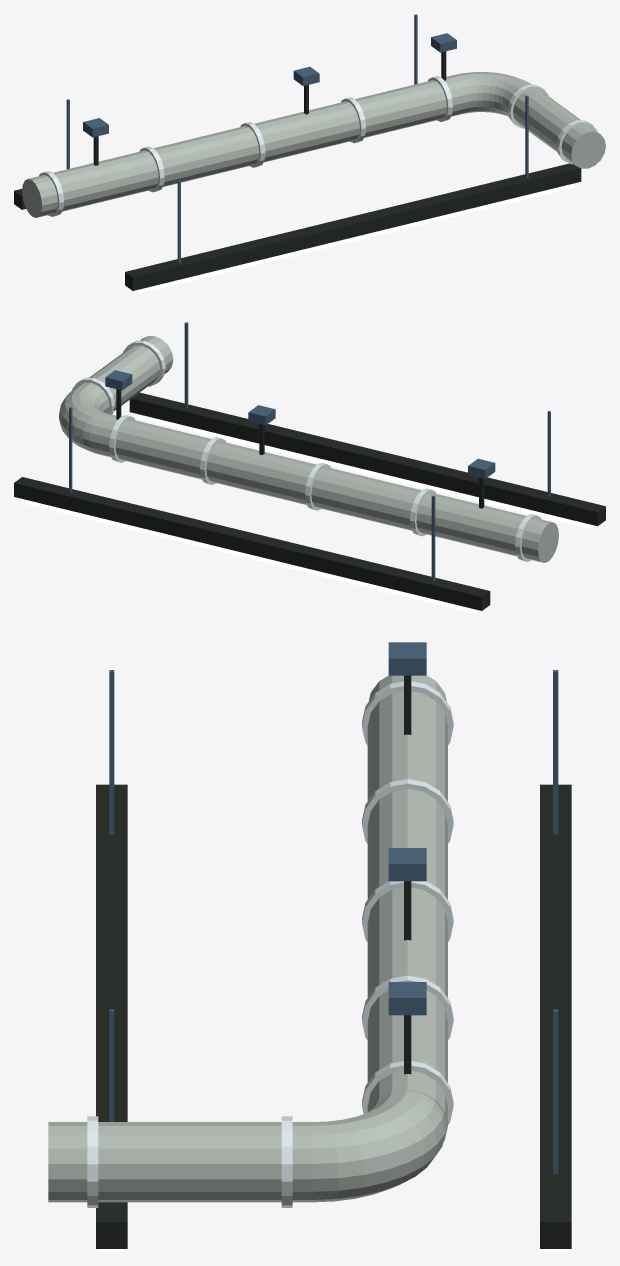
The model's file is gh_ceiling_services_v01.glb.
3 views of the same model, one above another, from view 1: azimuth 30°, elevation 25°; view 2: azimuth 150°, elevation 25°; view 3: azimuth 270°, elevation 25° (orthographic). The views are drawn at different scales.
Visible parts, largest first — view 1: Exposed warehouse ceiling services; view 2: Exposed warehouse ceiling services; view 3: Exposed warehouse ceiling services.
Part boxes in pixels (box(x1,y1,x2,y2)): Exposed warehouse ceiling services: box(14, 14, 605, 293); Exposed warehouse ceiling services: box(14, 322, 605, 613); Exposed warehouse ceiling services: box(48, 642, 571, 1251).
Bounding box in the file's own units: 5.32 × 1.1 × 2.47.
2 materials, 2 textured.
